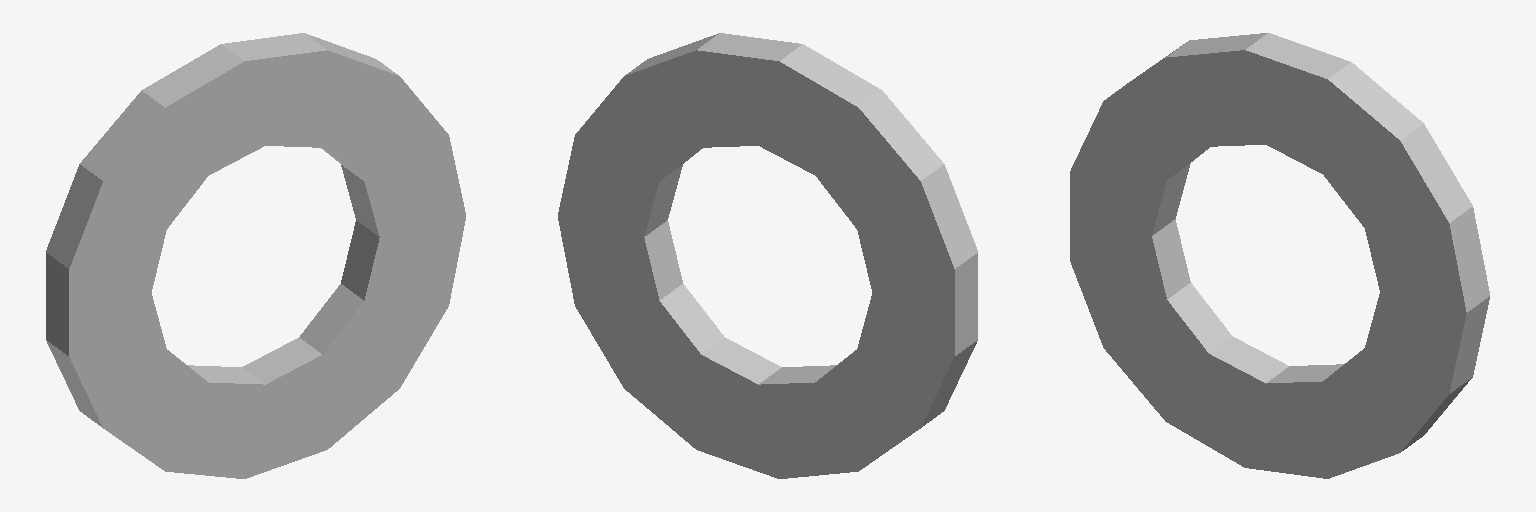
Rendered from 136. Шайба.obj.
The picture shows the model from 3 angles: view 1: azimuth 30°, elevation 25°; view 2: azimuth 150°, elevation 25°; view 3: azimuth 330°, elevation 25°; orthographic projection.
Parts seen in each view (by area): view 1: Твердое тело1; view 2: Твердое тело1; view 3: Твердое тело1.
Part boxes in pixels (bbox=[...]): Твердое тело1: bbox=[46, 33, 465, 478]; Твердое тело1: bbox=[558, 33, 977, 478]; Твердое тело1: bbox=[1070, 33, 1489, 478].
Bounding box in the file's own units: 43.52 × 43.76 × 4.5.